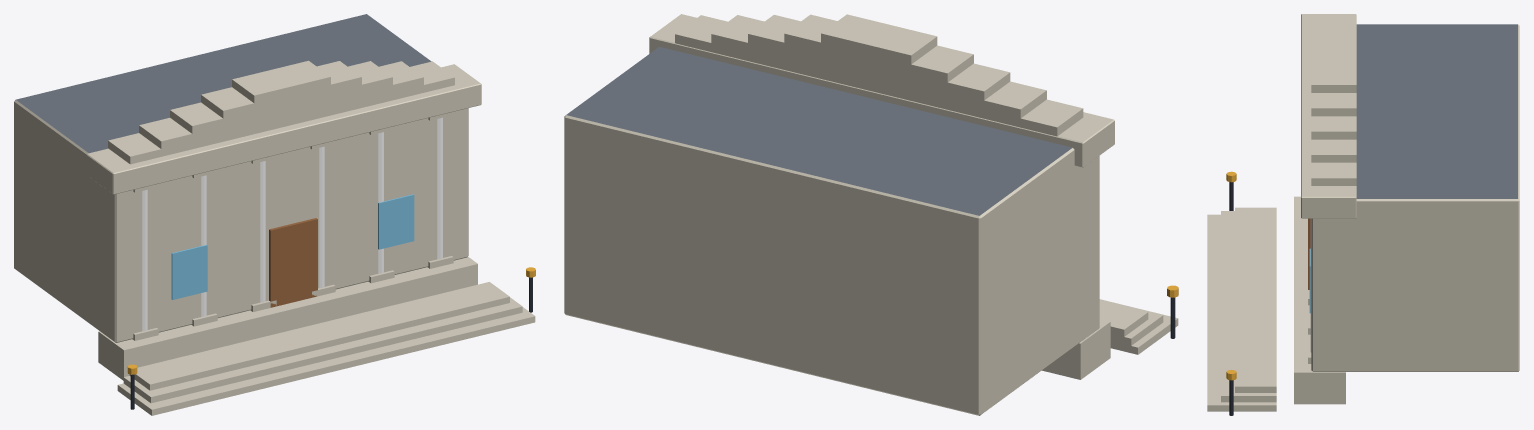
The model's file is courthouse.fbx.
The picture shows the model from 3 angles, left to right: view 1: azimuth 30°, elevation 25°; view 2: azimuth 150°, elevation 25°; view 3: azimuth 270°, elevation 25°; orthographic projection. The views are drawn at different scales.
Visible parts, largest first — view 1: courthouse; view 2: courthouse; view 3: courthouse.
Boxes of the visible parts, x1=… form: courthouse: x1=14, y1=14, x2=535, y2=415; courthouse: x1=564, y1=14, x2=1178, y2=415; courthouse: x1=1207, y1=14, x2=1519, y2=415.
Size of the model in its own units: 27.6 by 15.9 by 18.
